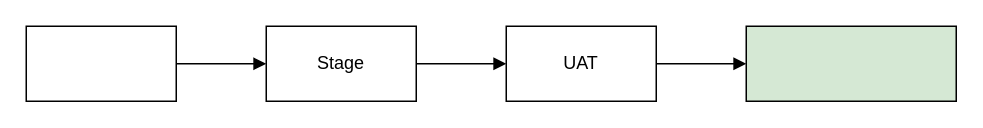
Image size: 983x128. Some labels were removed from this diagram. Each missing label, with the centre of its shape:
"GitHub Pages" belongs at point 850,63.
"QA" belongs at point 100,63.
